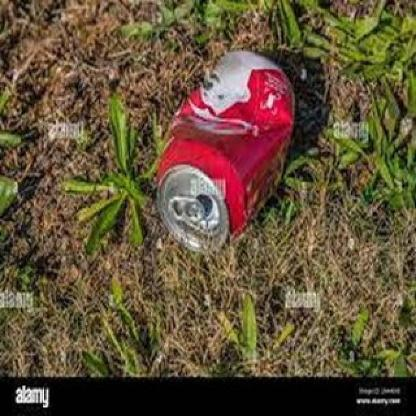Can: (153, 47, 295, 255)
